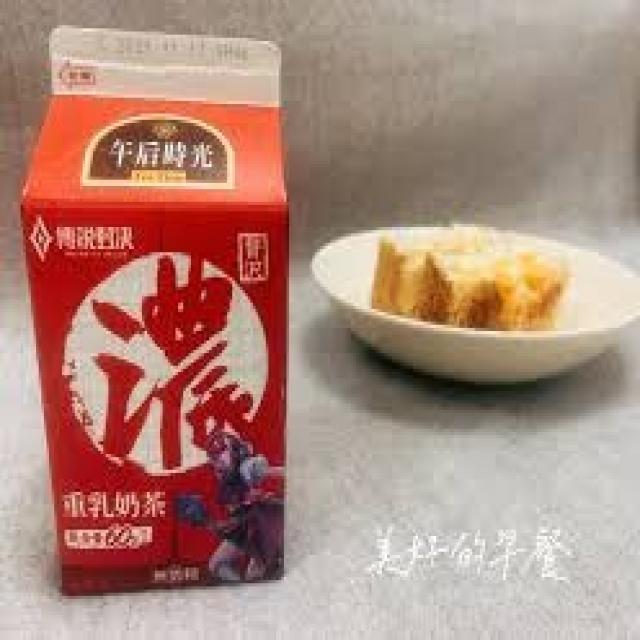Known_MilkTea: (11, 17, 303, 590)
